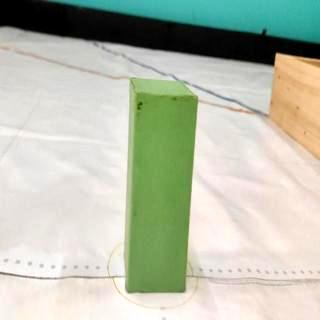greenbox: (121, 78, 199, 294)
